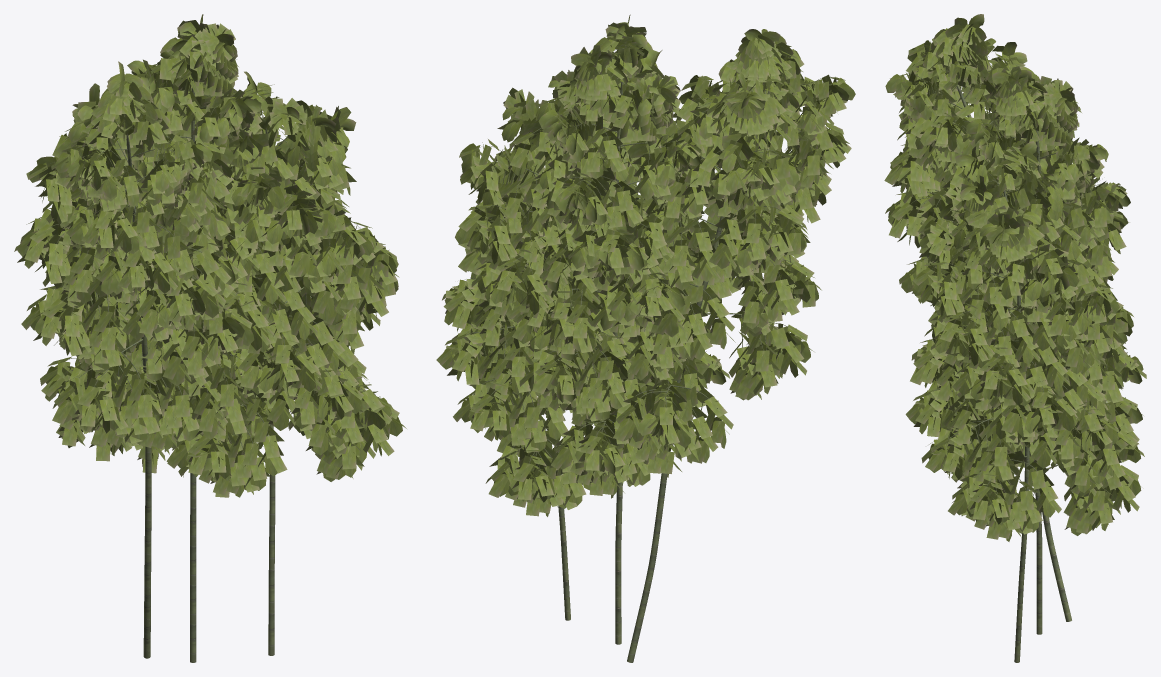
The model's file is MESH_JA14_PhyllostachysNigraHenonis_A_LOD0.fbx.
3 views of the same model, side by side, from view 1: azimuth 30°, elevation 25°; view 2: azimuth 150°, elevation 25°; view 3: azimuth 270°, elevation 25° (orthographic). The views are drawn at different scales.
Parts seen in each view (by area): view 1: MI_LOD0_001, MI_LOD0; view 2: MI_LOD0_001, MI_LOD0; view 3: MI_LOD0_001, MI_LOD0.
Boxes of the visible parts, <box> form: MI_LOD0_001: <box>14,14,406,497</box>; MI_LOD0: <box>43,40,365,662</box>; MI_LOD0_001: <box>436,14,855,516</box>; MI_LOD0: <box>455,40,835,662</box>; MI_LOD0_001: <box>884,14,1146,541</box>; MI_LOD0: <box>907,44,1118,662</box>.
Bounding box in the file's own units: 480 × 801 × 332.
